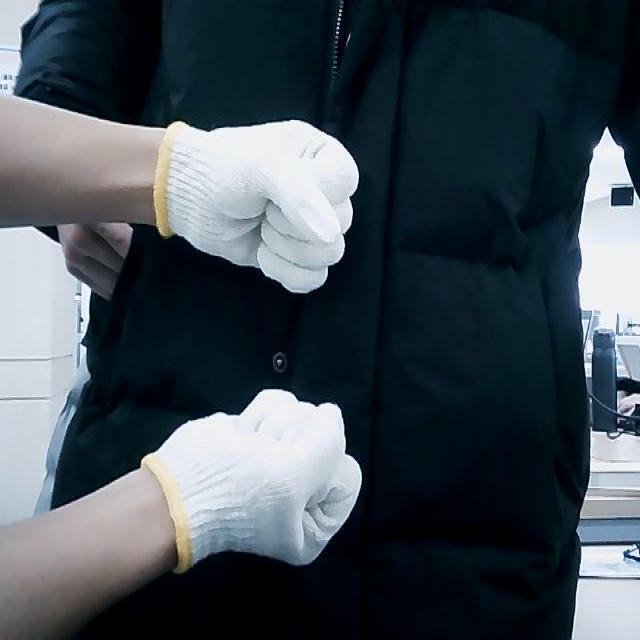GLOVE: (140, 388, 366, 576), (152, 119, 360, 295)
